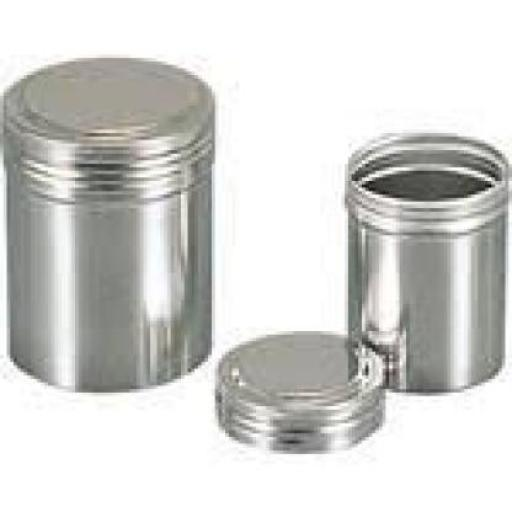metal: (3, 54, 222, 390), (348, 130, 511, 386), (222, 331, 392, 454)
